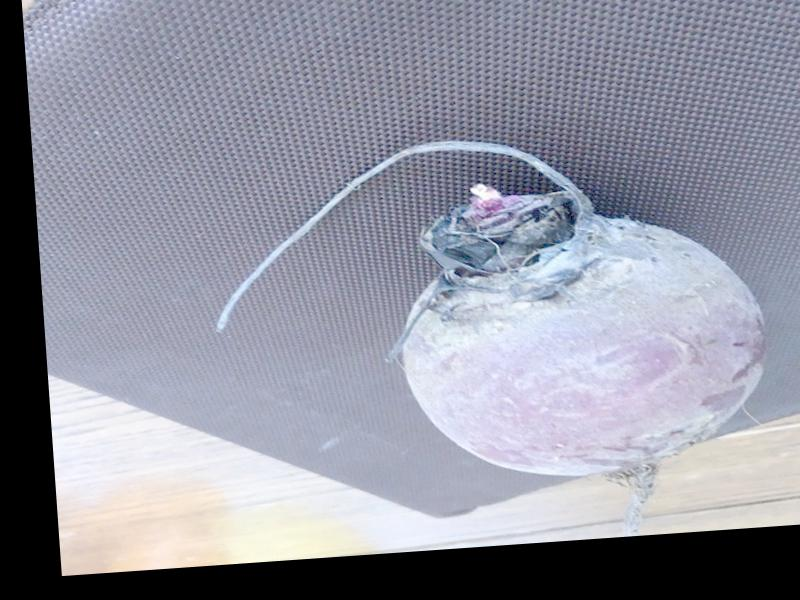Beet: (203, 119, 780, 562)
